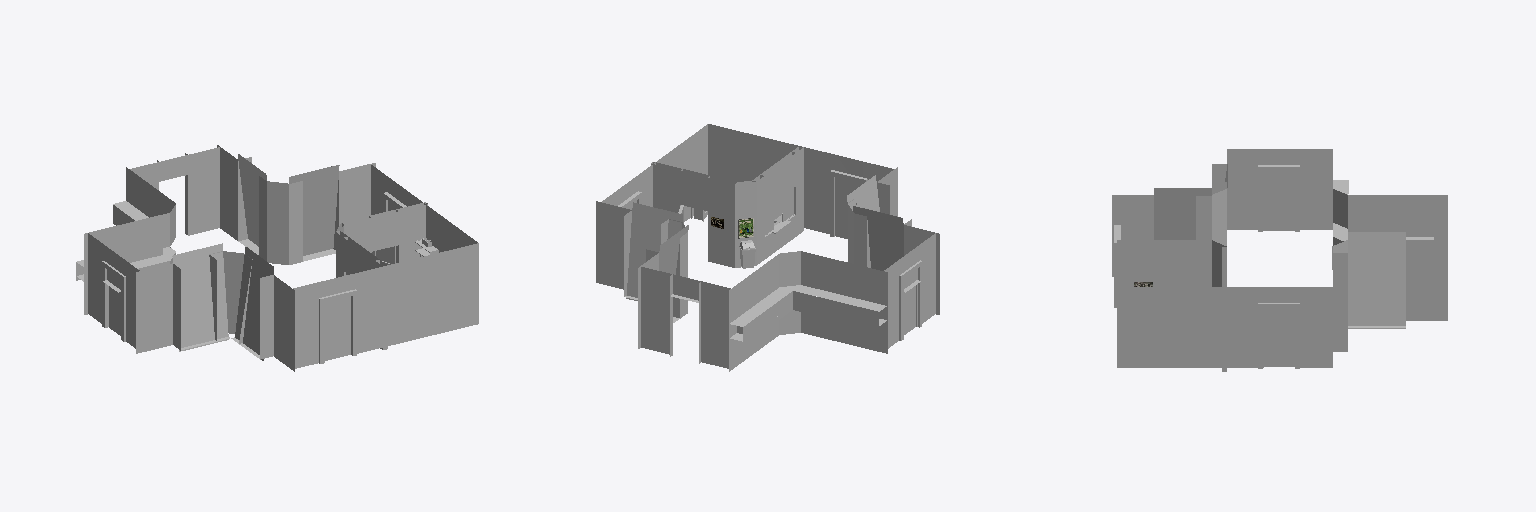
The picture shows the model from 3 angles: view 1: azimuth 30°, elevation 25°; view 2: azimuth 150°, elevation 25°; view 3: azimuth 270°, elevation 25°; orthographic projection.
Parts seen in each view (by area): view 1: default.059_Mesh.281, default.062_Mesh.278, default.075_Mesh.267, default.071_Mesh.271, default.074_Mesh.268, default.076_Mesh.266, default.079_Mesh.263, default.060_Mesh.280, default.065_Mesh.277, default.078_Mesh.264, Cube.016_Cube.021, default.067_Mesh.275 (+7 smaller); view 2: default.059_Mesh.281, default.062_Mesh.278, default.071_Mesh.271, default.078_Mesh.264, default.068_Mesh.274, default.077_Mesh.265, default.065_Mesh.277, default.081_Mesh.261, default.079_Mesh.263, default.075_Mesh.267, default.085_Mesh.257, Cube.016_Cube.021 (+10 smaller); view 3: default.062_Mesh.278, default.065_Mesh.277, default.073_Mesh.269, default.059_Mesh.281, default.068_Mesh.274, default.069_Mesh.273, Cube.018_Cube.021, default.067_Mesh.275, Cube.017_Cube.021, default.060_Mesh.280, default.066_Mesh.276, default.077_Mesh.265 (+1 smaller).
Boxes of the visible parts, x1,y1,x2,y2 form: default.059_Mesh.281: [293, 202, 427, 368]; default.062_Mesh.278: [371, 165, 478, 345]; default.075_Mesh.267: [172, 243, 228, 351]; default.071_Mesh.271: [130, 147, 219, 235]; default.074_Mesh.268: [136, 263, 180, 353]; default.076_Mesh.266: [267, 181, 302, 264]; default.079_Mesh.263: [289, 165, 339, 255]; default.060_Mesh.280: [260, 275, 294, 371]; default.065_Mesh.277: [88, 233, 139, 348]; default.078_Mesh.264: [84, 205, 175, 266]; Cube.016_Cube.021: [319, 289, 356, 363]; default.067_Mesh.275: [235, 247, 273, 360]; default.059_Mesh.281: [651, 146, 893, 267]; default.062_Mesh.278: [602, 124, 798, 221]; default.071_Mesh.271: [641, 267, 730, 368]; default.078_Mesh.264: [779, 251, 887, 305]; default.068_Mesh.274: [729, 254, 886, 337]; default.077_Mesh.265: [596, 201, 631, 296]; default.065_Mesh.277: [884, 233, 935, 348]; default.081_Mesh.261: [779, 310, 887, 353]; default.079_Mesh.263: [626, 202, 682, 300]; default.075_Mesh.267: [853, 206, 903, 270]; default.085_Mesh.257: [793, 291, 878, 330]; Cube.016_Cube.021: [830, 170, 867, 238]; default.062_Mesh.278: [1117, 287, 1332, 367]; default.065_Mesh.277: [1227, 149, 1332, 229]; default.073_Mesh.269: [1348, 232, 1405, 328]; default.059_Mesh.281: [1117, 240, 1226, 371]; default.068_Mesh.274: [1333, 180, 1447, 239]; default.069_Mesh.273: [1406, 240, 1447, 320]; Cube.018_Cube.021: [1258, 165, 1299, 231]; default.067_Mesh.275: [1154, 188, 1211, 239]; Cube.017_Cube.021: [1258, 303, 1299, 368]; default.060_Mesh.280: [1112, 195, 1153, 276]; default.066_Mesh.276: [1196, 182, 1226, 245]; default.077_Mesh.265: [1333, 271, 1347, 351].
Bounding box in the file's own units: 9.38 × 2.82 × 9.38.
Materials: 20 (5 with a texture image).